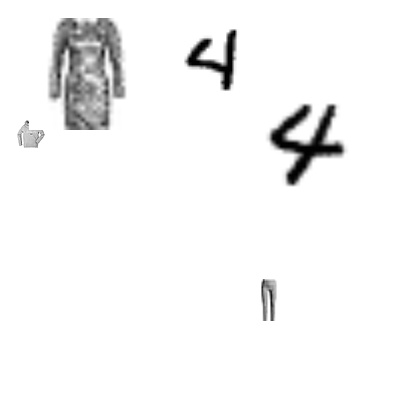4: (247, 85, 359, 197), (173, 15, 257, 99)
Dress: (29, 18, 141, 130)
Pullover: (17, 120, 45, 148)
Trouser: (248, 279, 290, 321)
